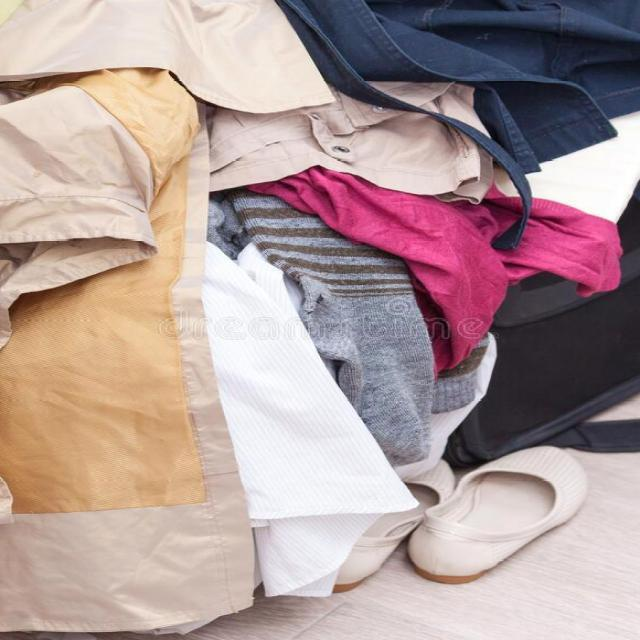clothes: (0, 0, 309, 640), (312, 0, 639, 404)
